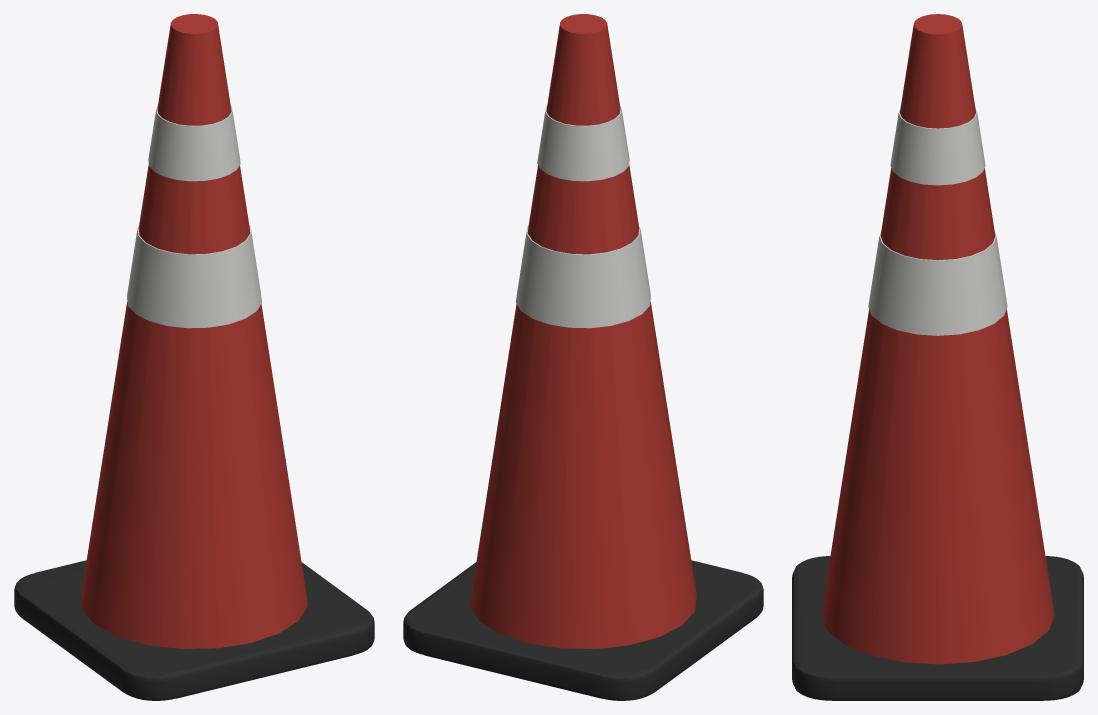
The model's file is SM_Traffic_Cone.fbx.
3 views of the same model, side by side, from view 1: azimuth 30°, elevation 25°; view 2: azimuth 150°, elevation 25°; view 3: azimuth 270°, elevation 25° (orthographic). The views are drawn at different scales.
Visible parts, largest first — view 1: SM_Traffic_Cone_1; view 2: SM_Traffic_Cone_1; view 3: SM_Traffic_Cone_1.
Part boxes in pixels (bbox=[...]): SM_Traffic_Cone_1: bbox=[14, 14, 374, 700]; SM_Traffic_Cone_1: bbox=[403, 14, 763, 700]; SM_Traffic_Cone_1: bbox=[792, 14, 1083, 700].
Size of the model in its own units: 30 by 70 by 30.
